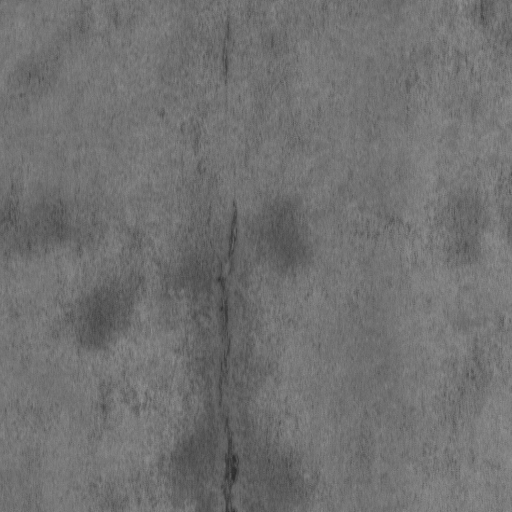zongxiangliewen: (215, 198, 240, 511)
